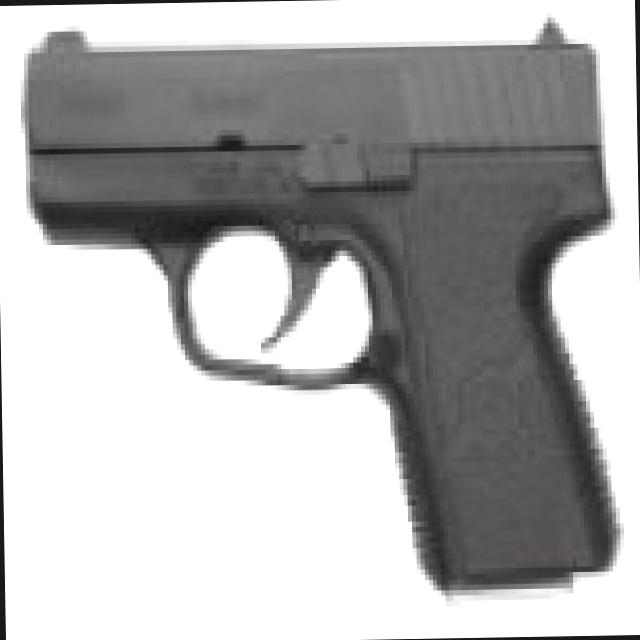handgun: (19, 10, 617, 602)
